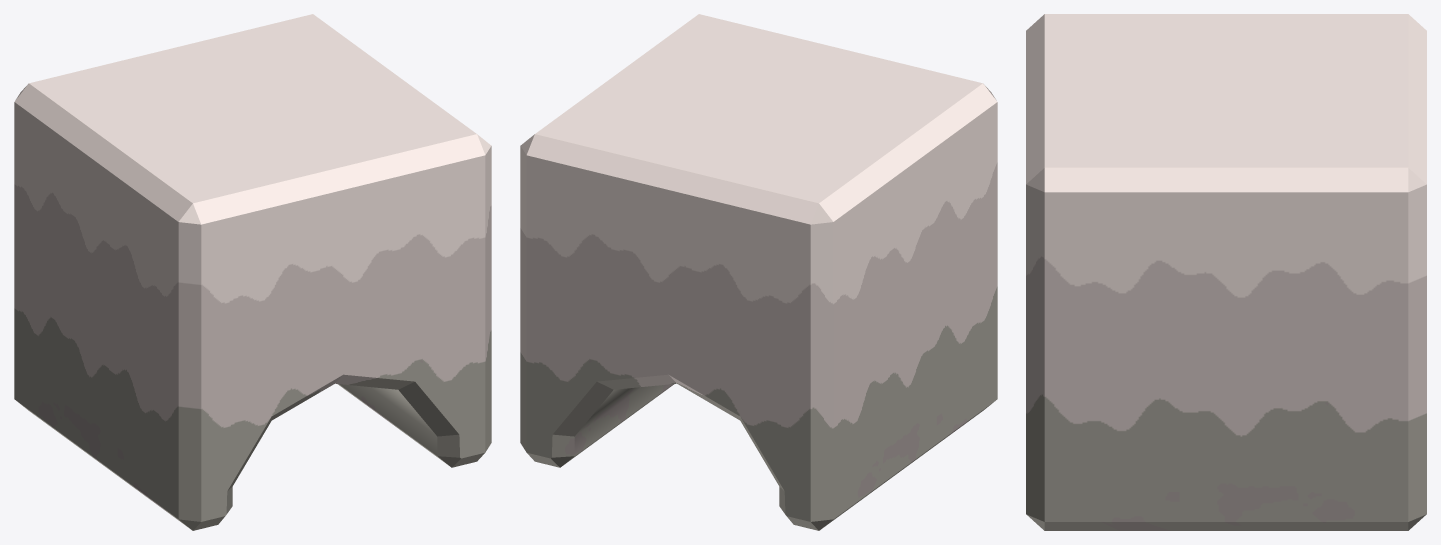
File: R4B_Arch_LOD1.glb
3 views of the same model, side by side, from view 1: azimuth 30°, elevation 25°; view 2: azimuth 150°, elevation 25°; view 3: azimuth 270°, elevation 25° (orthographic). The views are drawn at different scales.
Parts seen in each view (by area): view 1: R4B_Arch_LOD1; view 2: R4B_Arch_LOD1; view 3: R4B_Arch_LOD1.
Boxes of the visible parts, x1,y1,x2,y2 form: R4B_Arch_LOD1: [14, 14, 491, 530]; R4B_Arch_LOD1: [520, 14, 997, 530]; R4B_Arch_LOD1: [1026, 14, 1426, 530].
Bounding box in the file's own units: 0.52 × 0.52 × 0.52.
1 material, 1 textured.
